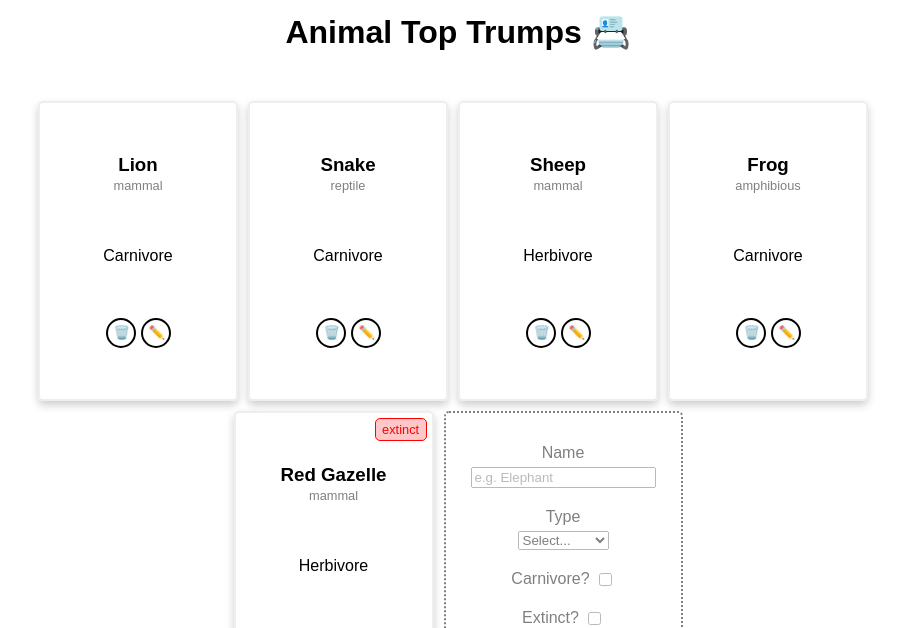
Scenario: Functionality › editing a card
Expected: the heading "Frog" is shown, [747,154,789,175]
Click the button with class "edit-card" below "amphibious" at [786, 333], box [771,318,801,348]
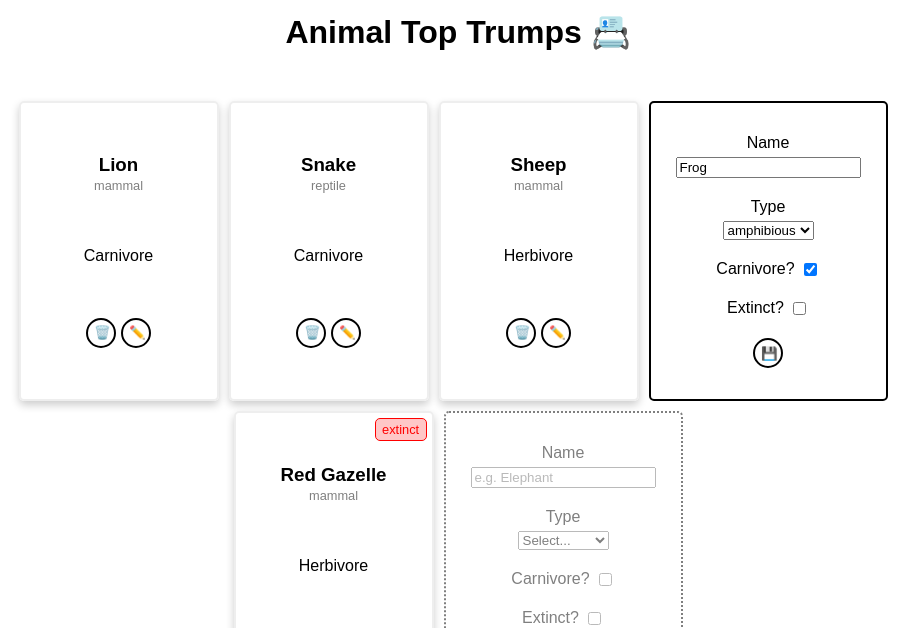
Replace the text in the field with id "edit-card-name" with "Jumping Frog" at [769, 168], box [676,157,861,178]
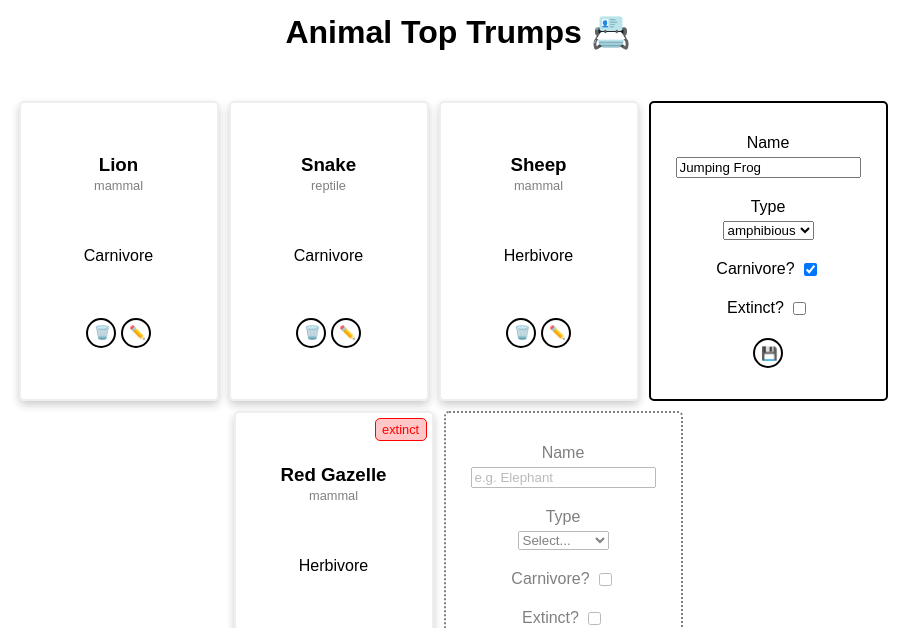
Click the button with class "submit-btn" at [768, 353], box [753,338,783,368]
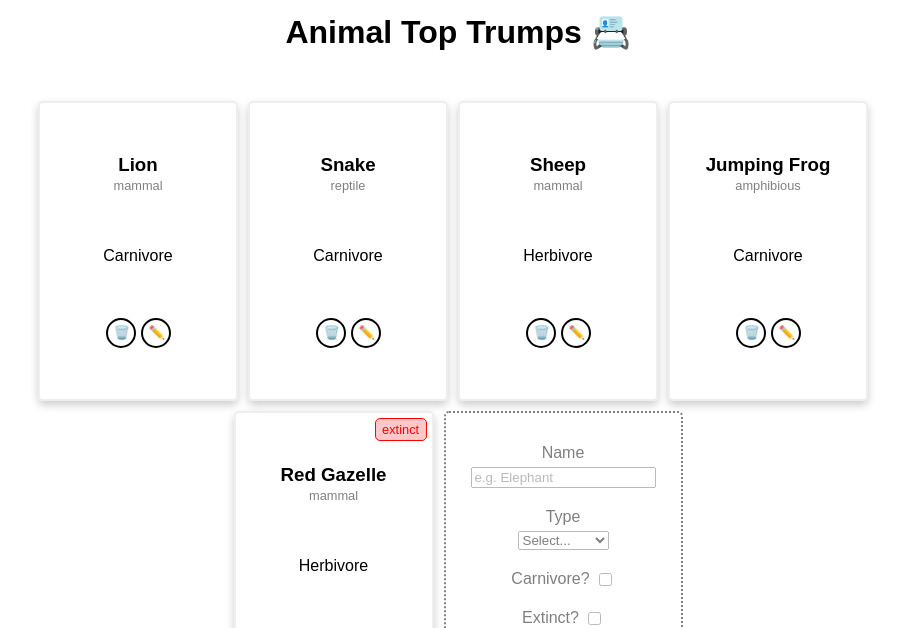
Now the heading "Jumping Frog" is shown, box [706,154,830,176]
